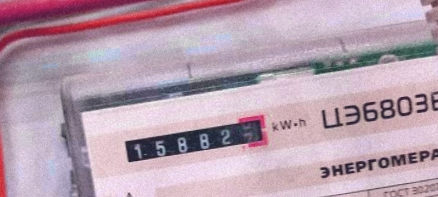1: (131, 141, 144, 160)
2: (218, 127, 231, 145)
5: (152, 138, 166, 157)
7: (241, 130, 253, 144)
8: (175, 134, 188, 153), (198, 132, 210, 149)
screen: (116, 110, 274, 168)
